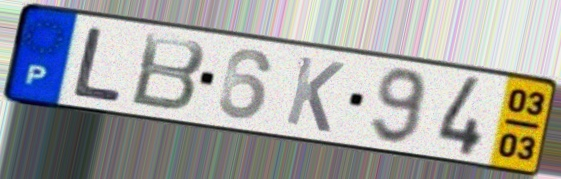4: (435, 73, 486, 161)
6: (216, 47, 277, 123)
9: (369, 66, 430, 147)
B: (127, 30, 210, 114)
K: (282, 52, 348, 136)
L: (68, 24, 125, 105)
